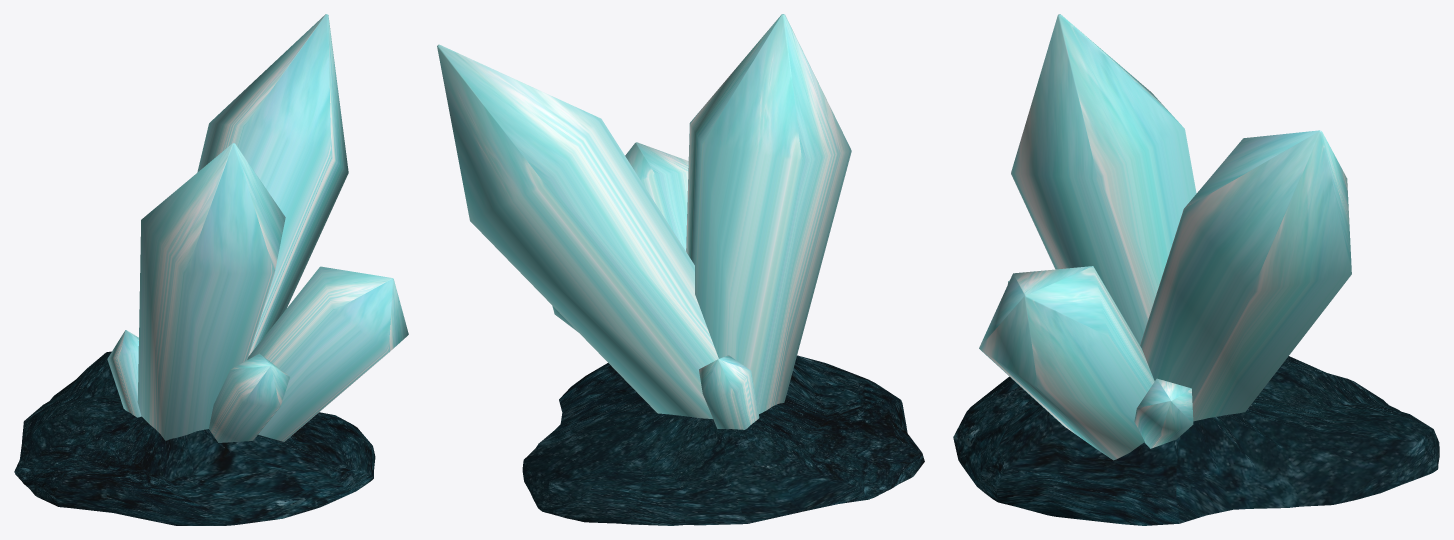
The model's file is mediumCrystal.fbx.
The picture shows the model from 3 angles, left to right: view 1: azimuth 30°, elevation 25°; view 2: azimuth 150°, elevation 25°; view 3: azimuth 270°, elevation 25°; orthographic projection. The views are drawn at different scales.
Visible parts, largest first — view 1: Sphere, Cylinder, Cylinder.1, Cylinder.13, Cylinder.3, Cylinder.4; view 2: Cylinder.1, Sphere, Cylinder, Cylinder.13, Cylinder.4; view 3: Sphere, Cylinder.1, Cylinder, Cylinder.13, Cylinder.2.
Boxes of the visible parts, x1,y1,x2,y2 form: Sphere: (14,351,375,525); Cylinder: (137,143,285,440); Cylinder.1: (197,14,348,356); Cylinder.13: (247,266,408,441); Cylinder.3: (209,353,289,442); Cylinder.4: (107,330,141,417); Cylinder.1: (437,44,718,418); Sphere: (522,355,924,525); Cylinder: (686,14,851,413); Cylinder.13: (625,142,688,250); Cylinder.4: (699,355,759,429); Sphere: (953,356,1439,525); Cylinder.1: (1140,130,1351,421); Cylinder: (1011,14,1196,344); Cylinder.13: (979,266,1154,460); Cylinder.2: (1134,378,1193,448).
Bounding box in the file's own units: 396 × 366 × 382.
Materials: 7 (7 with a texture image).
